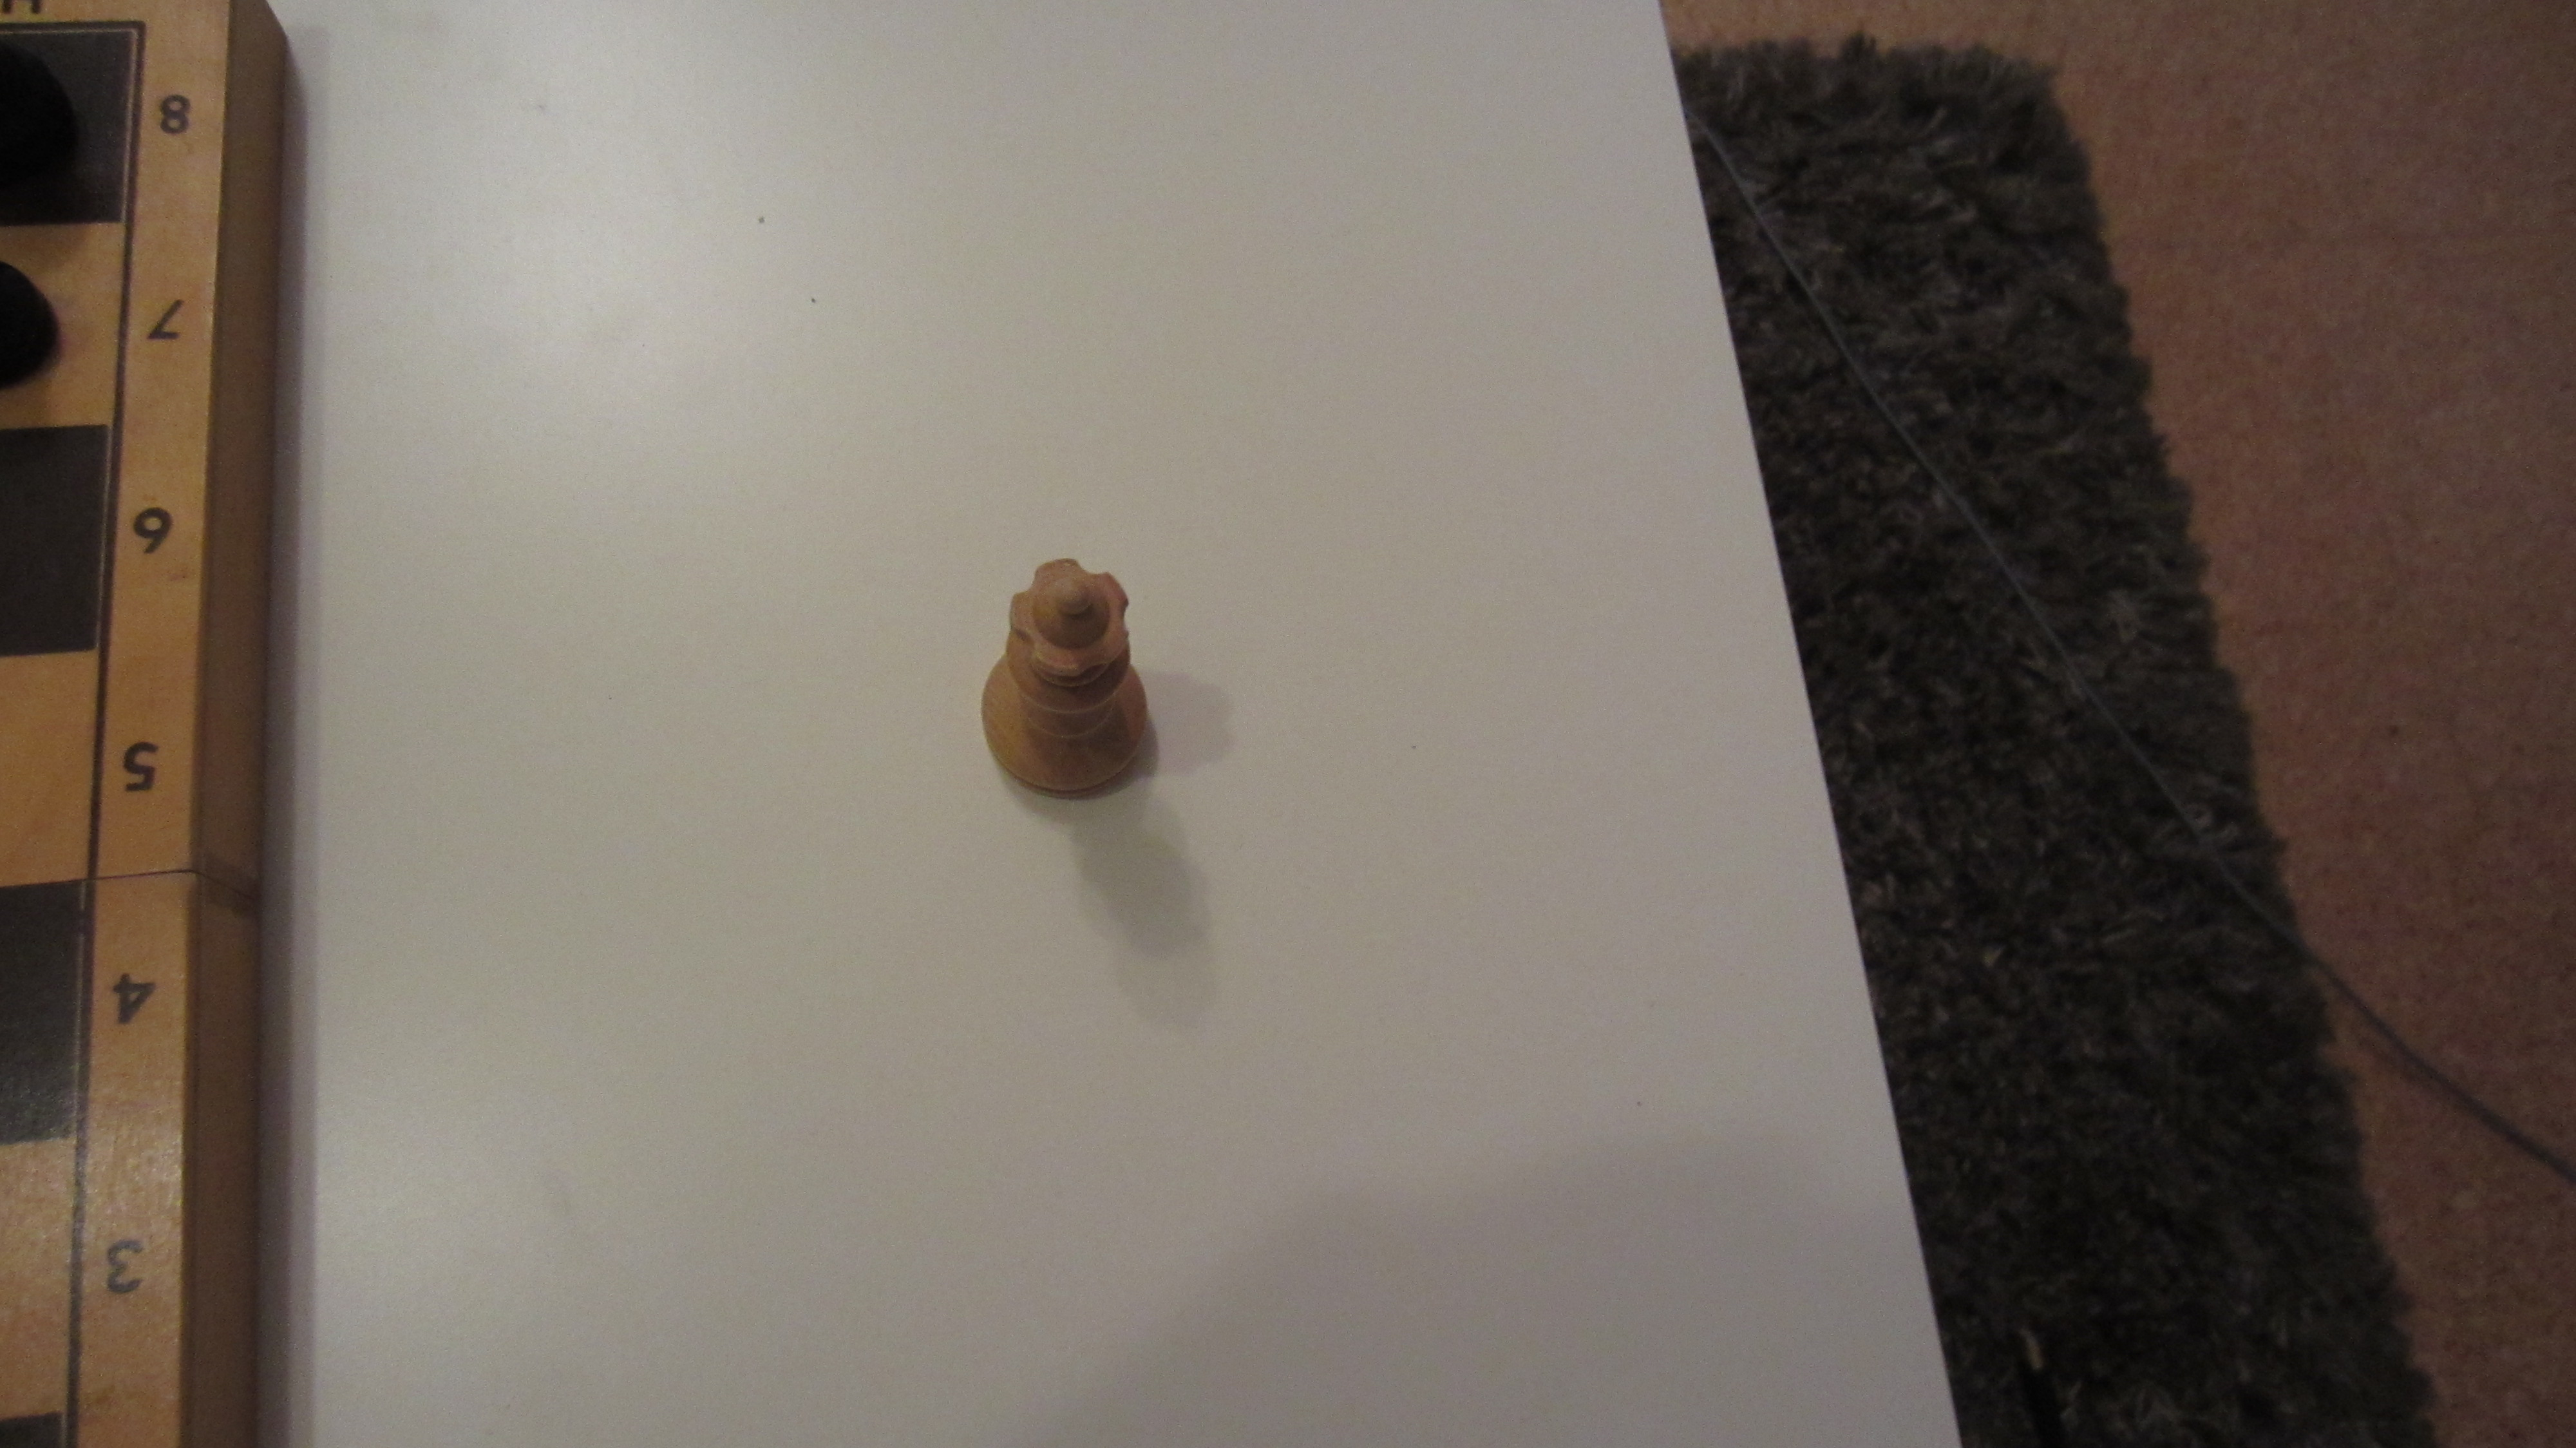white-queen: (971, 551, 1157, 797)
